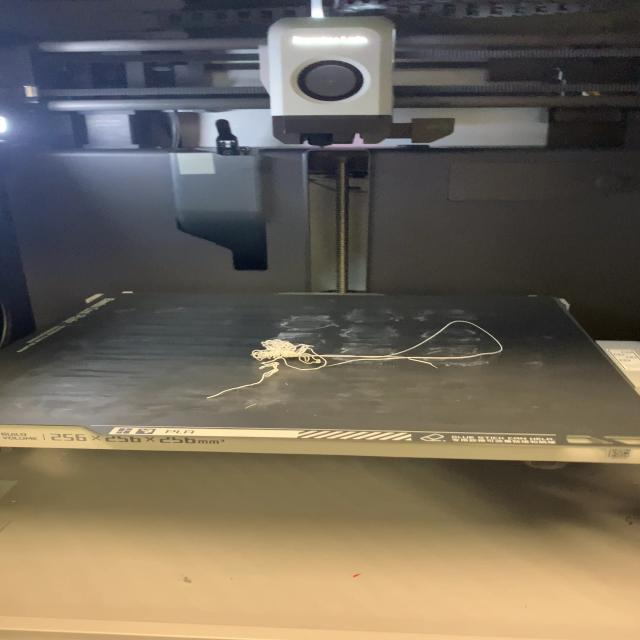spaghetti: (3, 288, 637, 462), (202, 317, 506, 402)
